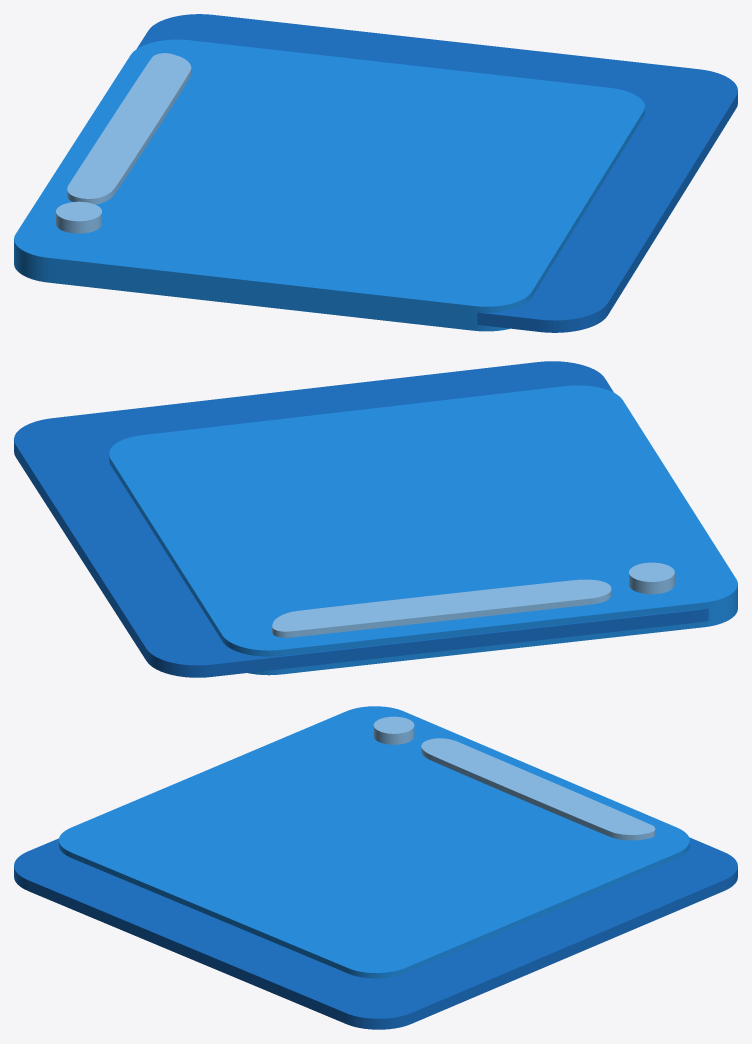
The model's file is emoji_u1f539.glb.
3 views of the same model, one above another, from view 1: azimuth 30°, elevation 25°; view 2: azimuth 150°, elevation 25°; view 3: azimuth 270°, elevation 25° (orthographic). The views are drawn at different scales.
Parts seen in each view (by area): view 1: emoji_u1f539; view 2: emoji_u1f539; view 3: emoji_u1f539.
Boxes of the visible parts, x1,y1,x2,y2 form: emoji_u1f539: (14, 14, 737, 332); emoji_u1f539: (14, 361, 737, 677); emoji_u1f539: (14, 706, 737, 1029).
Bounding box in the file's own units: 0.012 × 0.0008 × 0.012.
